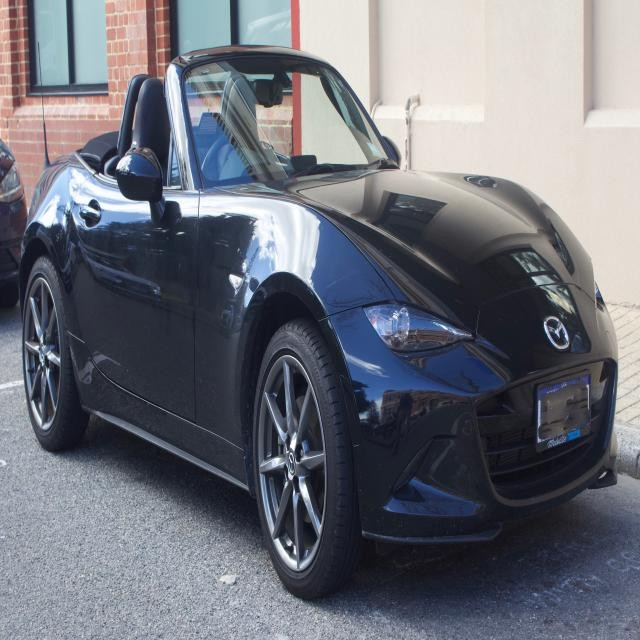car: (21, 44, 618, 603)
